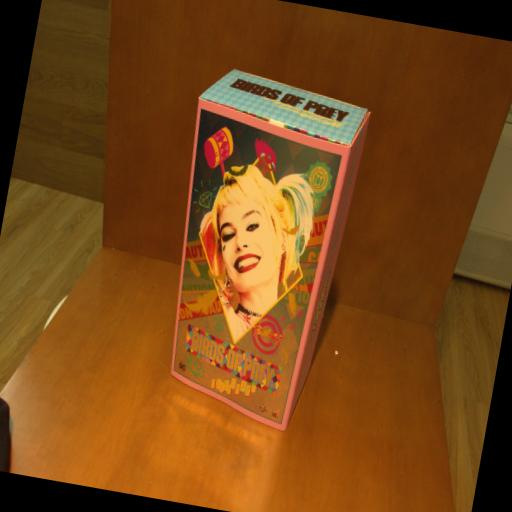Harley: (142, 62, 374, 436)
